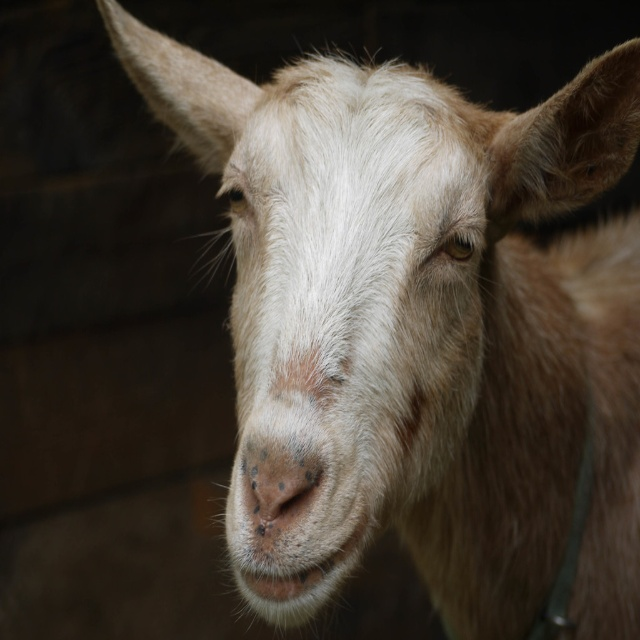Goat: (94, 0, 640, 640)
